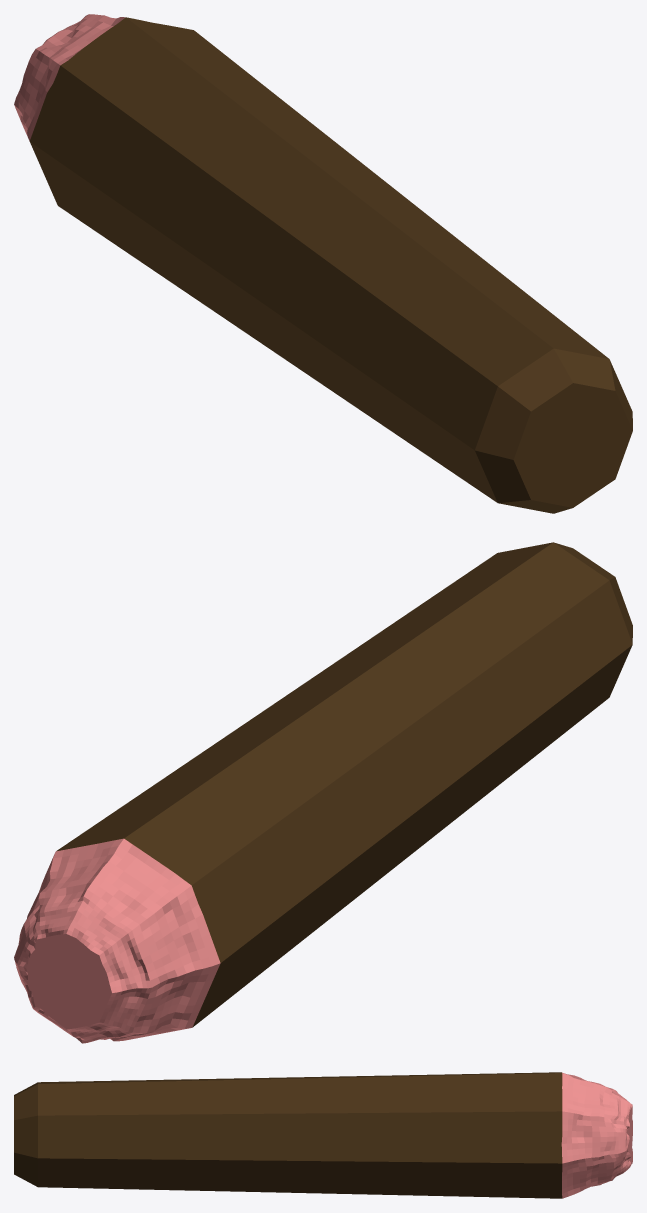
File: Cigard.fbx
3 renders of one model, top to bottom at view 1: azimuth 30°, elevation 25°; view 2: azimuth 150°, elevation 25°; view 3: azimuth 270°, elevation 25°, orthographic. The views are drawn at different scales.
Visible parts, largest first — view 1: Cylinder, Cylinder.001; view 2: Cylinder, Cylinder.001; view 3: Cylinder, Cylinder.001.
Part boxes in pixels (box(x1,y1,x2,y2)): Cylinder: box(29, 17, 632, 513); Cylinder.001: box(14, 14, 125, 140); Cylinder: box(56, 542, 632, 1027); Cylinder.001: box(14, 838, 220, 1043); Cylinder: box(14, 1072, 562, 1198); Cylinder.001: box(561, 1072, 632, 1198).
Bounding box in the file's own units: 200 × 200 × 909.
